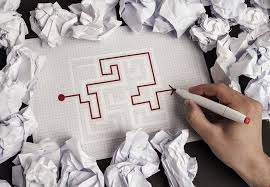maze: (69, 58, 166, 130)
